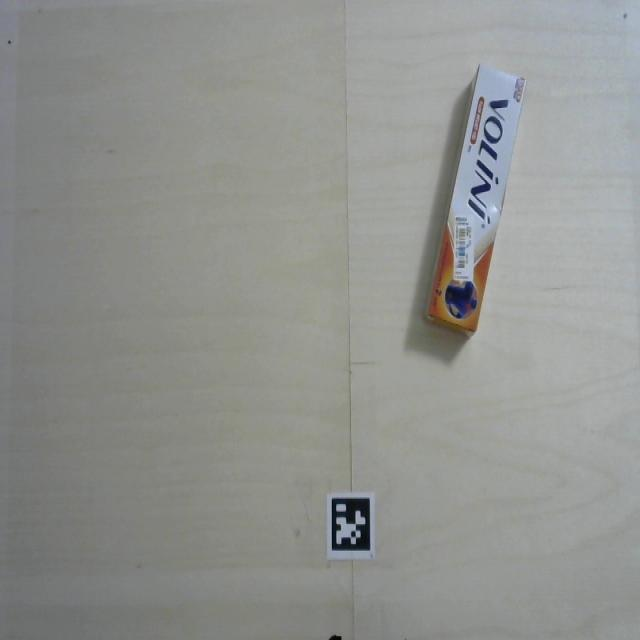volini: (420, 58, 532, 346)
